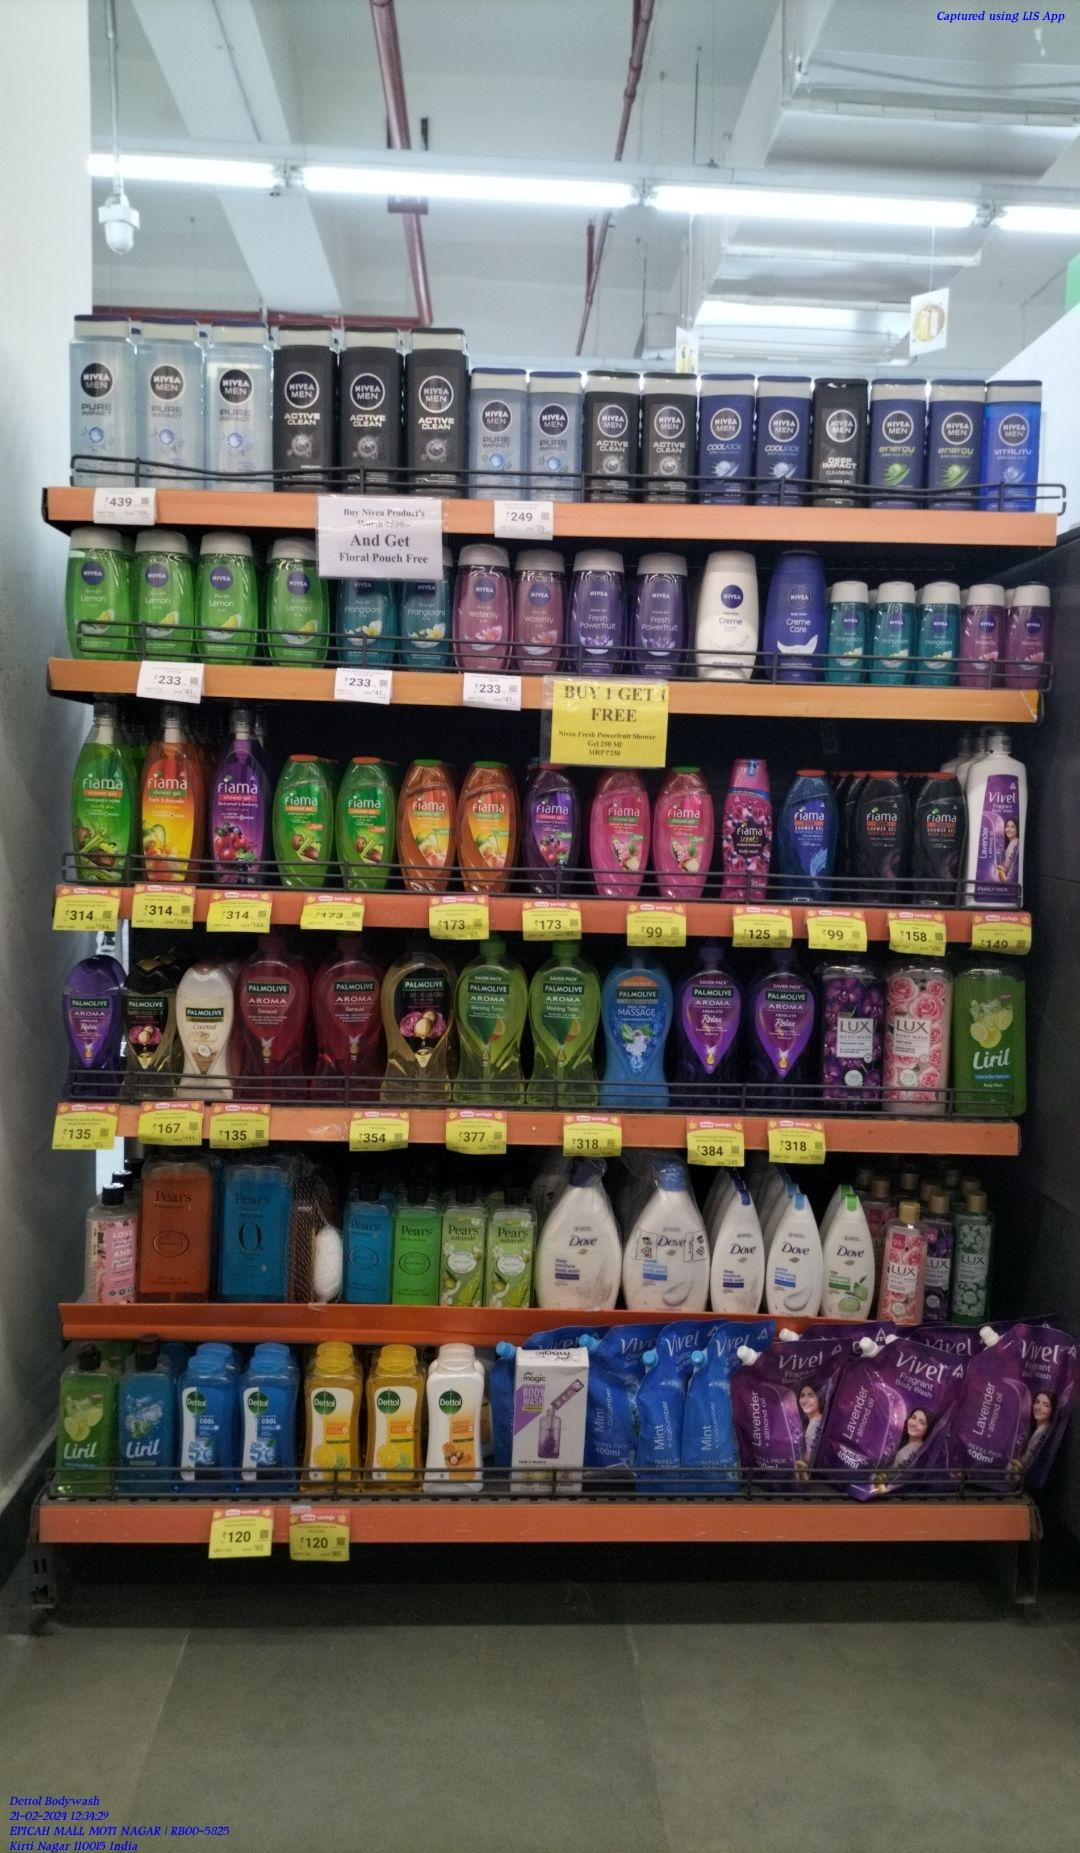Dettol_Bodywash_Cool: (174, 1351, 235, 1494), (234, 1352, 296, 1493)
Dettol_Bodywash_Refresh: (361, 1352, 424, 1492), (297, 1353, 361, 1489)
Dettol_Nourish_Body_Wash_250ML: (423, 1348, 487, 1493)
Dove_Deep_Moisture_Body_Wash_250ML: (710, 1189, 766, 1312)
Dove_Gentle_Exfoliating_Body_Wash_250ML: (766, 1194, 827, 1315)
Dove_Refreshing_Body_Wash_250ML: (827, 1194, 876, 1317)
Fiama_Shower_Gel_Lemongrass_and_Jojoba_250ML: (270, 754, 332, 889), (333, 756, 395, 887)
Fiama_Shower_Gel_Patchouli_and_Macadamia_250ML: (651, 763, 717, 897), (588, 771, 651, 897)
Fiama_Shower_Gel_Peach_and_Avocado_250ML: (454, 757, 521, 893), (396, 757, 455, 889)
Liril_Cooling_Mint_Body_Wash_250ML: (117, 1342, 175, 1494)
Liril_Lime_and_Tea_Tree_Oil_Body_Wash_250ML: (54, 1343, 118, 1493)
Lux_Body_Wash_Skin_Detox_Freesia_Scent_and_Alove_Vera_245ML: (951, 1190, 995, 1325)
Nivea_Creme_Care_Body_Wash_250ML: (762, 547, 825, 680)
Nivea_Creme_Soft_Body_Wash_250ML: (693, 549, 761, 681)
Nivea_Shower_Gel_Fresh_Powerfruit_250ML: (627, 549, 688, 676), (564, 550, 629, 669)
Nivea_Shower_Gel_Lemon_and_Oil_250ML: (62, 526, 131, 661), (194, 526, 260, 663), (264, 531, 328, 664), (130, 527, 193, 661)
Nivea_Shower_Gel_Waterlily_and_Oil_250ML: (450, 541, 514, 671), (513, 544, 563, 673)
Palmolive_Aroma_Relax_250ML: (58, 956, 120, 1100)
Palmolive_Coconut_Joy_Exfoliating_Body_Wash_250ML: (174, 959, 237, 1100)
Palmolive_Luminous_Oils_Invigorating_Macadamia_Oil_With_Peony_250ML: (118, 957, 172, 1096)
Pears_Naturale_Aloe_Vera_Body_Wash_250ML: (489, 1184, 536, 1306), (441, 1184, 486, 1304)
Pears_Pure_Glycerin_and_Lemon_Flower_Extracts_Body_Wash_250ML: (395, 1184, 441, 1304)
Pears_Pure_Glycerin_and_Mint_Extracts_Body_Wash_250ML: (341, 1181, 395, 1302)
